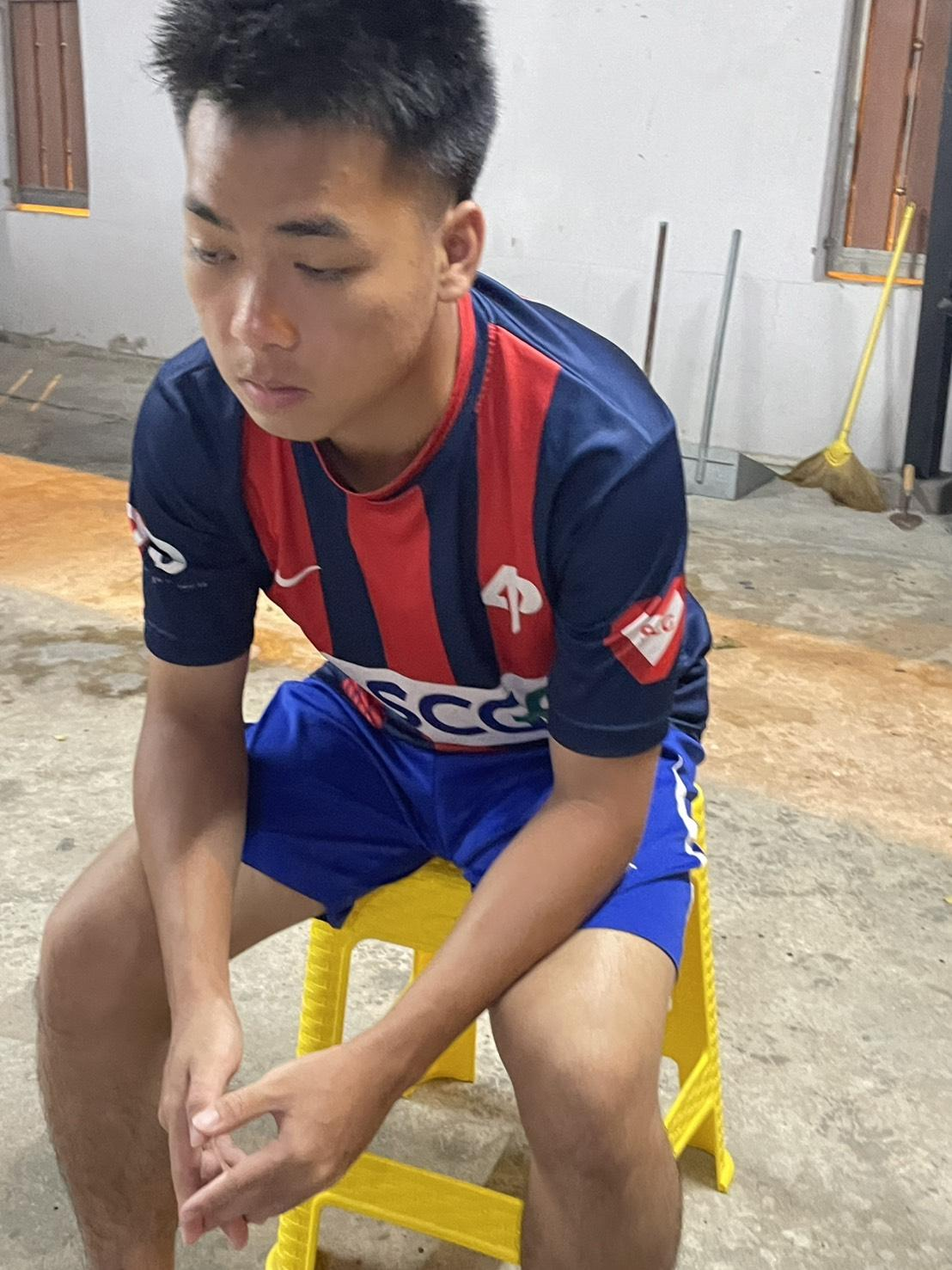BadPosture: (127, 0, 709, 761), (128, 0, 709, 756)
